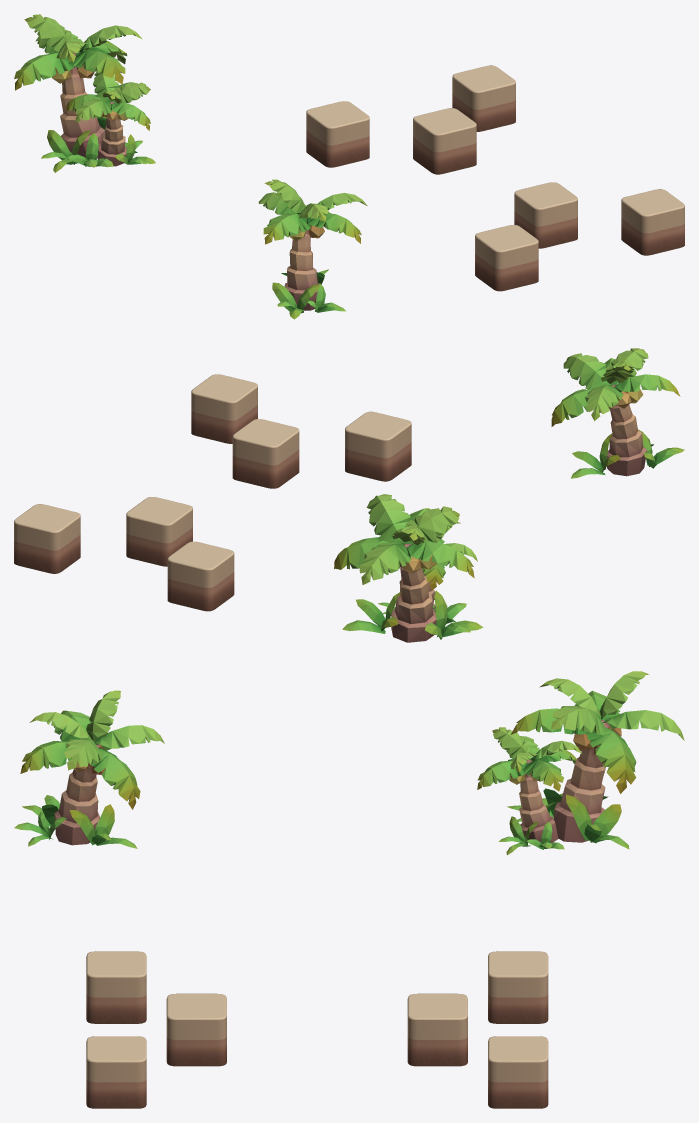
Rendered from Props.fbx.
The picture shows the model from 3 angles, top to bottom: view 1: azimuth 30°, elevation 25°; view 2: azimuth 150°, elevation 25°; view 3: azimuth 270°, elevation 25°; orthographic projection. The views are drawn at different scales.
Visible parts, largest first — view 1: yezishu01, yezishu02, Box01 (2), Box01, Box01 (5), Box01 (1), Box01 (4), Box01 (3); view 2: yezishu01, yezishu02, Box01 (2), Box01 (4), Box01, Box01 (3), Box01 (1), Box01 (5); view 3: yezishu01, yezishu02, Box01 (4), Box01 (5), Box01, Box01 (1), Box01 (3), Box01 (2).
Part boxes in pixels (box(x1,y1,x2,y2)): yezishu01: box(14, 14, 155, 172); yezishu02: box(258, 179, 367, 319); Box01 (2): box(306, 101, 369, 167); Box01: box(475, 225, 538, 291); Box01 (5): box(413, 108, 476, 174); Box01 (1): box(621, 189, 684, 255); Box01 (4): box(514, 182, 577, 248); Box01 (3): box(452, 65, 515, 131); yezishu01: box(334, 494, 483, 642); yezishu02: box(551, 348, 684, 478); Box01 (2): box(167, 541, 234, 611); Box01 (4): box(232, 419, 299, 488); Box01: box(345, 411, 411, 481); Box01 (3): box(14, 504, 80, 573); Box01 (1): box(191, 374, 257, 443); Box01 (5): box(126, 497, 192, 566); yezishu01: box(477, 671, 684, 855); yezishu02: box(14, 690, 164, 848); Box01 (4): box(166, 993, 226, 1066); Box01 (5): box(407, 993, 467, 1066); Box01: box(86, 951, 146, 1023); Box01 (1): box(86, 1036, 146, 1108); Box01 (3): box(488, 1036, 548, 1108); Box01 (2): box(488, 951, 548, 1023).
Bounding box in the file's own units: 31.45 × 10.64 × 33.42.
